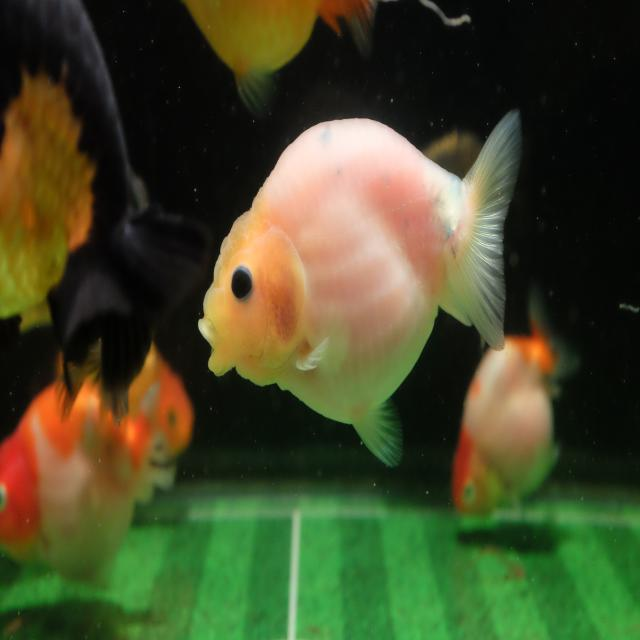Goldfish: (198, 108, 522, 472), (0, 0, 202, 356), (0, 383, 175, 585), (452, 292, 580, 524), (182, 0, 378, 106)
